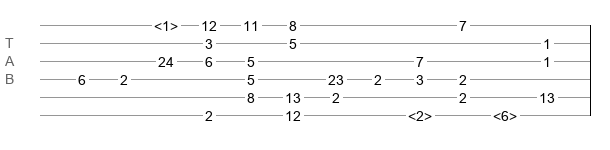1: (543, 54, 551, 64), (543, 36, 551, 46)
11: (243, 18, 259, 28)
12: (201, 18, 217, 28), (285, 108, 301, 118)
13: (285, 90, 301, 100), (539, 90, 555, 100)
2: (120, 72, 128, 82), (205, 108, 213, 118), (332, 90, 340, 100), (374, 72, 382, 82), (459, 72, 467, 82), (459, 90, 467, 100)
23: (328, 72, 344, 82)
24: (158, 54, 174, 64)
3: (205, 36, 213, 46), (416, 72, 424, 82)
5: (247, 54, 255, 64), (247, 72, 255, 82), (289, 36, 297, 46)
6: (78, 72, 86, 82), (205, 54, 213, 64)
7: (416, 54, 424, 64), (459, 18, 467, 28)
8: (247, 90, 255, 100), (289, 18, 297, 28)
harmonic: (154, 18, 178, 28), (408, 108, 432, 118), (493, 108, 517, 118)
